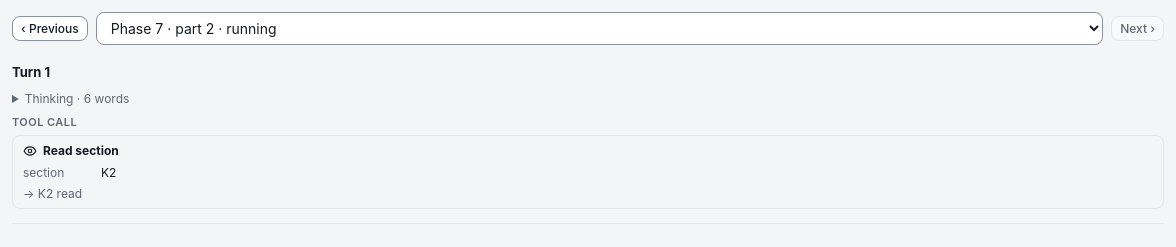
Test: WorkerSessions › shows the session chosen in the list, or by Previous and Next, as the live panel shows its turns
The image size is (1176, 247).
Select "Phase 7 · part 1" in the dropdown named "worker session" at (600, 28), box [96, 12, 1103, 45]
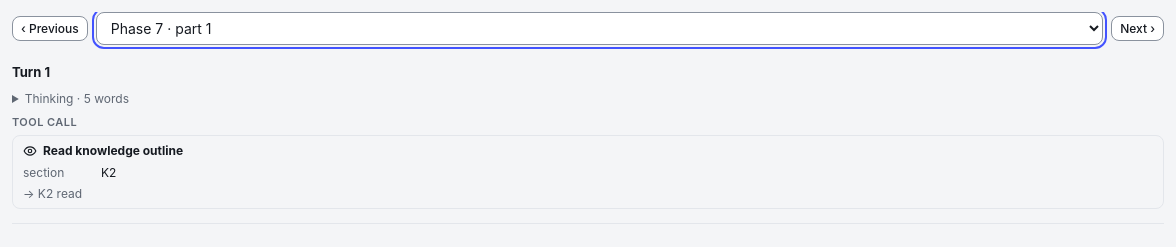
Result: the text "Read knowledge outline" is shown at [43, 142, 183, 160]
Click the button with aria-label "previous session" at (50, 28), box [12, 16, 88, 41]
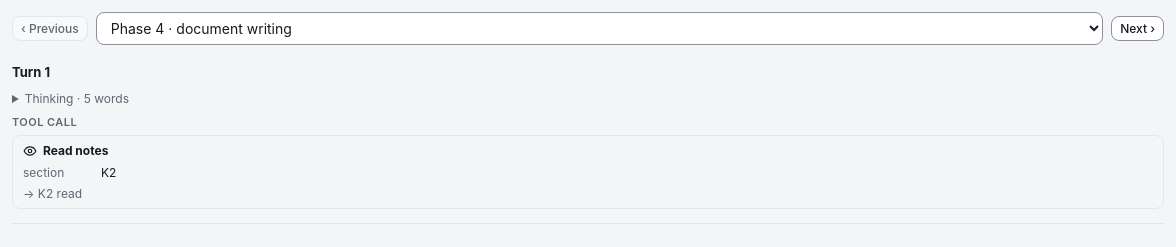
Result: the text "Read notes" is shown at [43, 142, 108, 160]
Result: the button with aria-label "previous session" is disabled at [12, 16, 88, 41]
